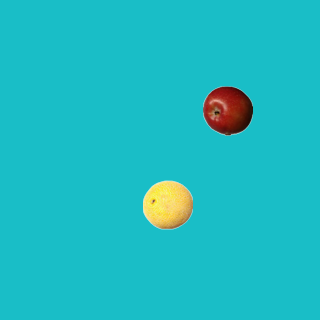Apple Braeburn: (202, 85, 252, 135)
Cantaloupe 1: (142, 179, 192, 229)
